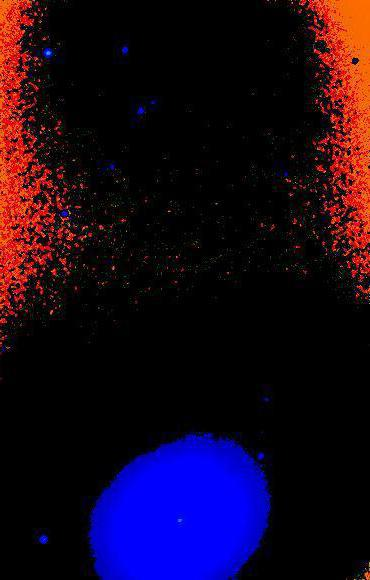star: (125, 554, 155, 580)
